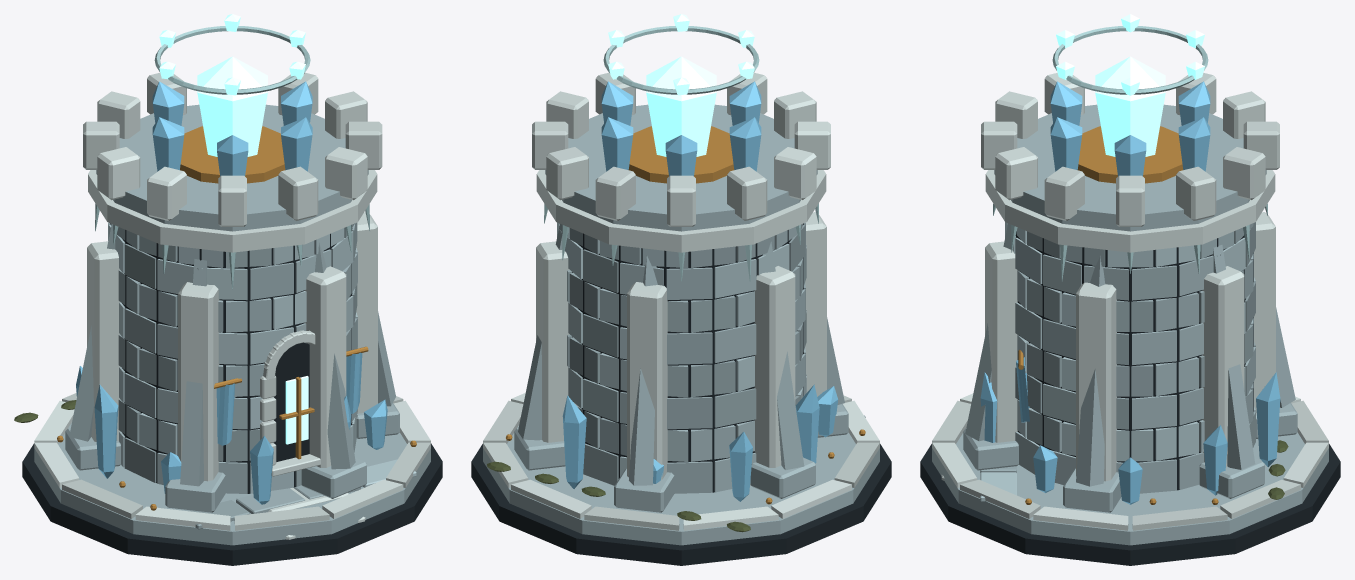
File: frost__eterna__L15.glb
The picture shows the model from 3 angles, left to right: view 1: azimuth 30°, elevation 25°; view 2: azimuth 150°, elevation 25°; view 3: azimuth 270°, elevation 25°; orthographic projection.
Parts seen in each view (by area): view 1: structure, weapon, banners; view 2: structure, weapon; view 3: structure, weapon, banners.
Boxes of the visible parts, x1,y1,x2,y2 form: structure: (14, 72, 442, 565); weapon: (152, 14, 312, 183); banners: (214, 346, 368, 445); structure: (471, 72, 891, 565); weapon: (601, 14, 761, 183); structure: (920, 73, 1340, 565); weapon: (1050, 14, 1210, 183); banners: (1016, 349, 1029, 422).
Size of the model in its own units: 0.8624 by 0.9768 by 0.8624.
